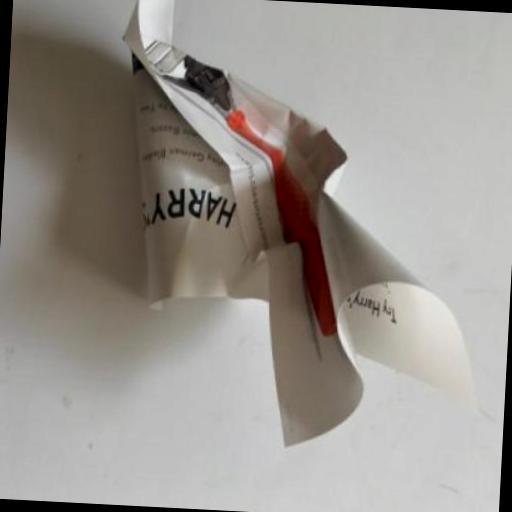paper: (102, 0, 512, 462)
